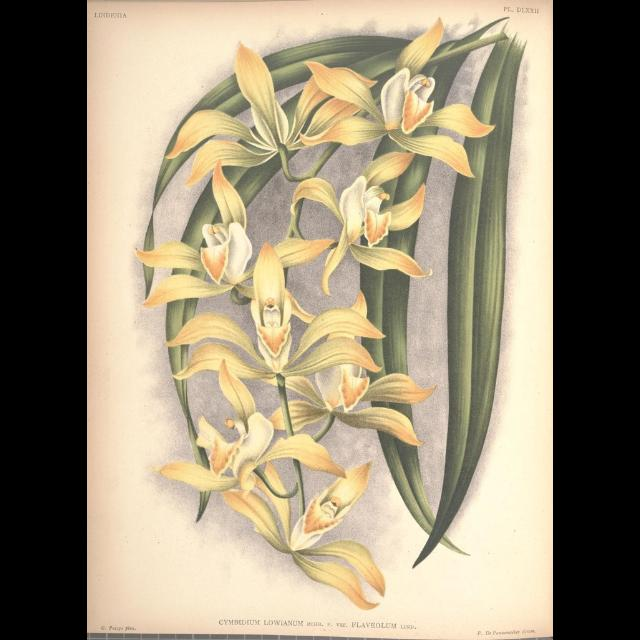Flower: (166, 58, 474, 534)
